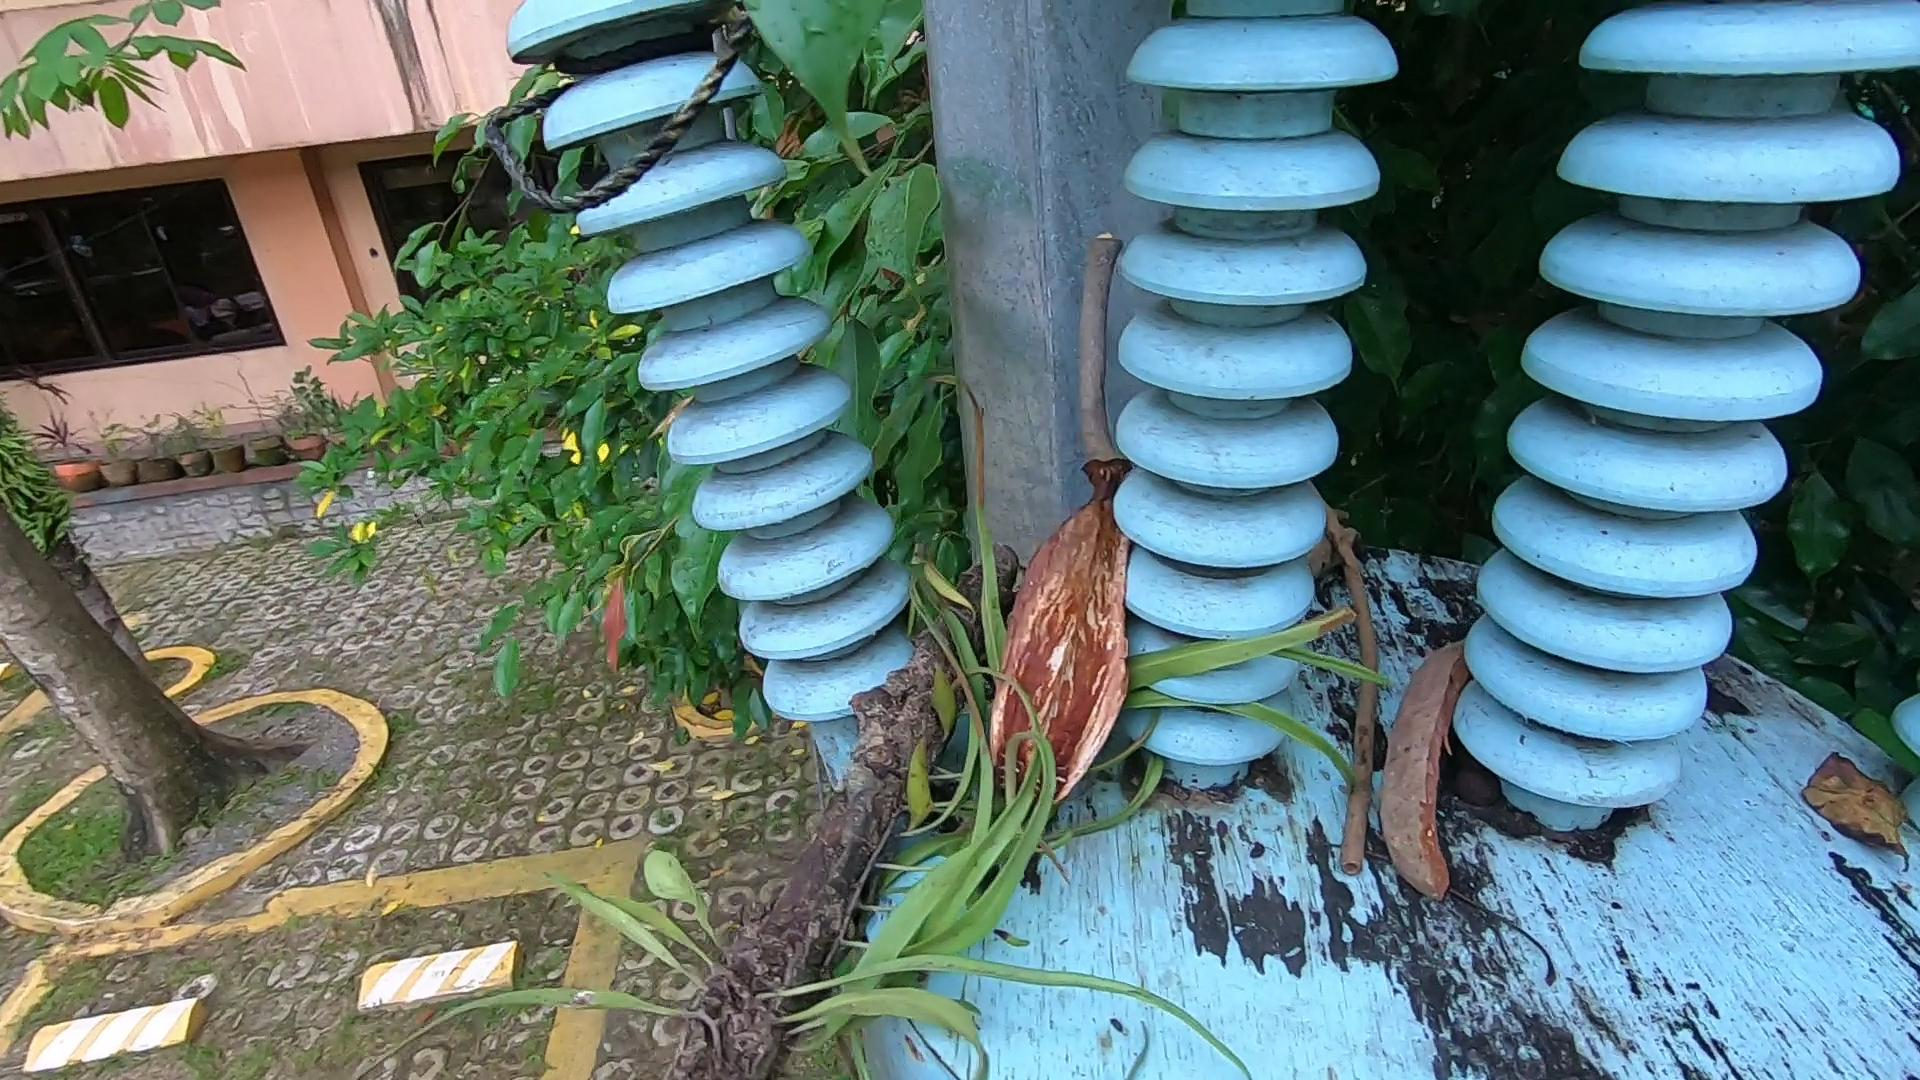branch with leaves: (356, 340, 1395, 1080)
leaf: (1804, 749, 1920, 880)
mahogany fruit: (916, 353, 1211, 855), (1366, 471, 1601, 911)
tree branch: (1323, 480, 1383, 880), (1065, 211, 1151, 491)
